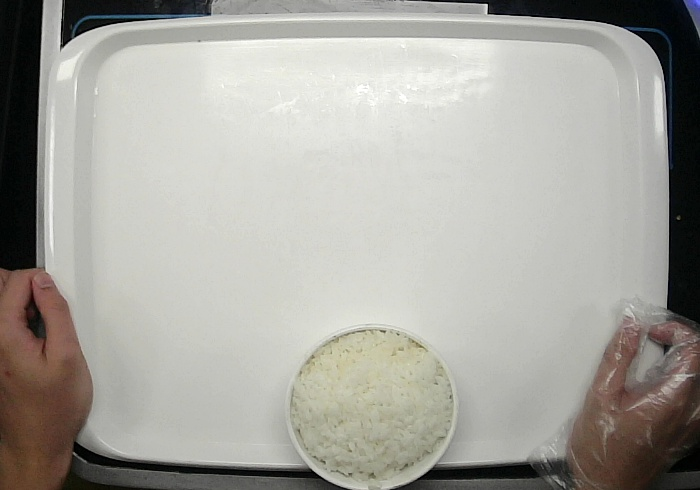HZYJPL-Fan_Wan: (286, 324, 458, 489)
